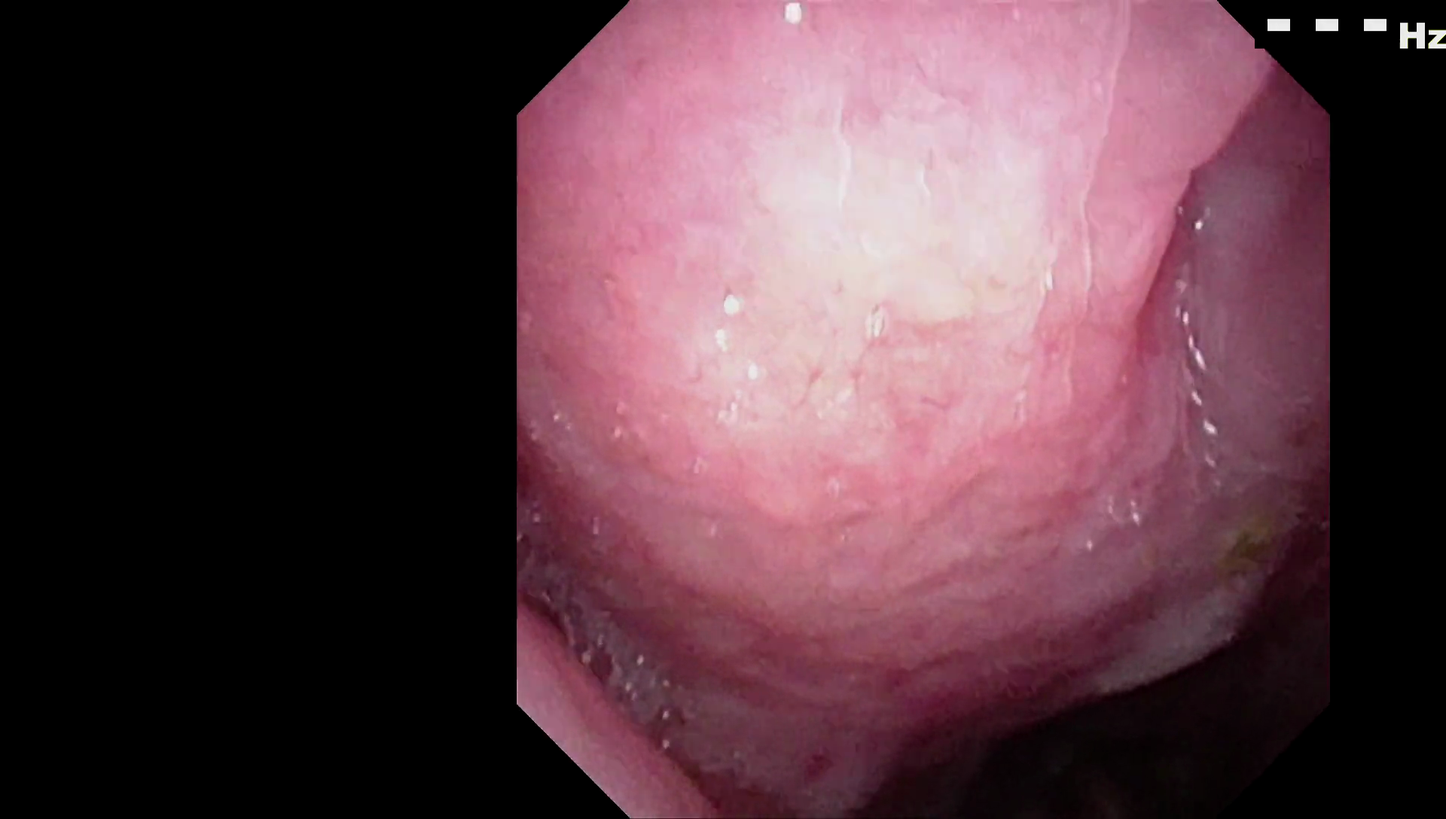close_wall: (571, 49, 1196, 593)
next: (807, 631, 1269, 819)
